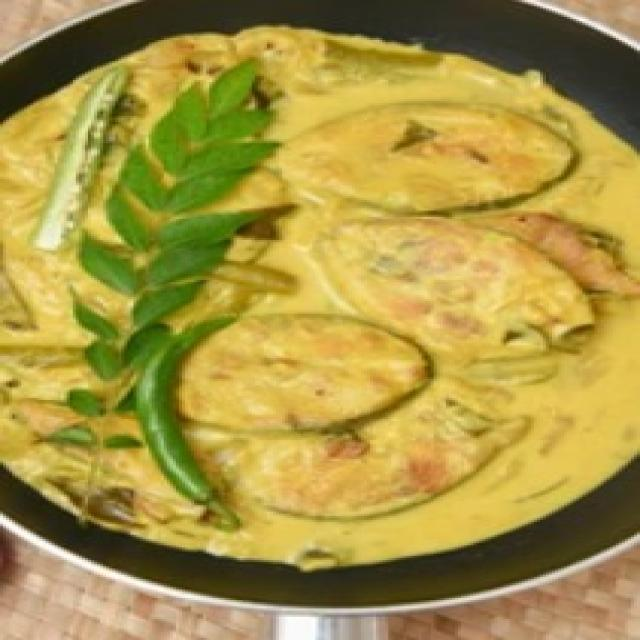FISH CURRY: (0, 27, 637, 568)
